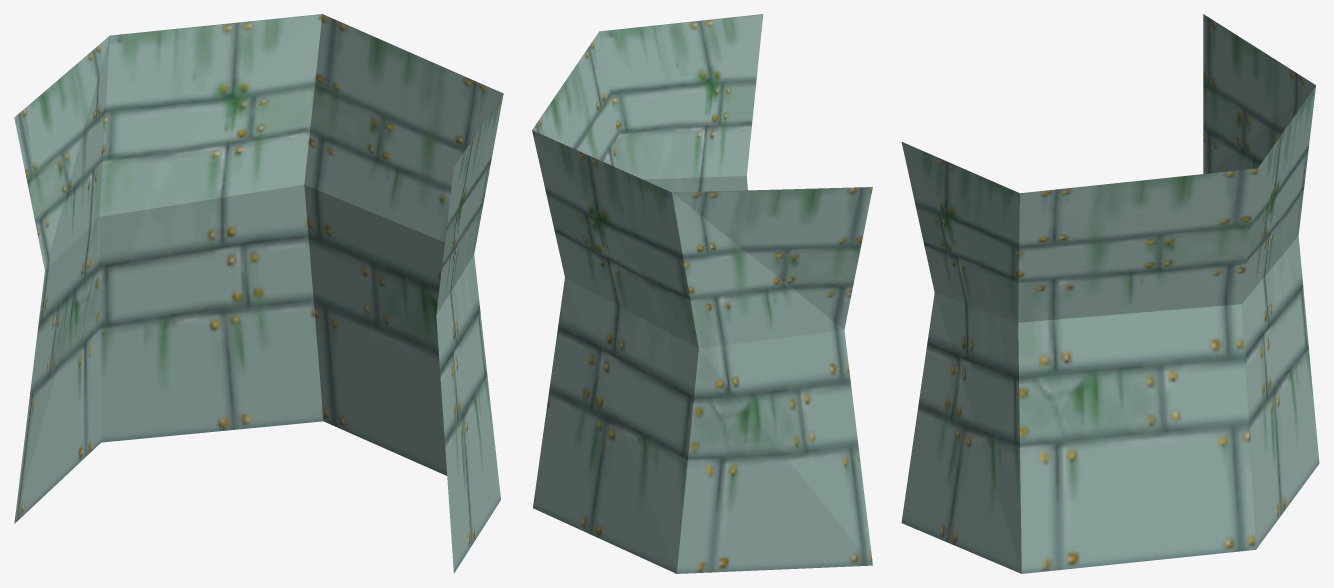
The model's file is W_Erker_Hinterseite_Gedreht_1670.glb.
3 views of the same model, side by side, from view 1: azimuth 30°, elevation 25°; view 2: azimuth 150°, elevation 25°; view 3: azimuth 270°, elevation 25° (orthographic). The views are drawn at different scales.
Visible parts, largest first — view 1: pPlaneShape6; view 2: pPlaneShape6; view 3: pPlaneShape6.
Part boxes in pixels (bbox=[...]): pPlaneShape6: bbox=[14, 14, 503, 573]; pPlaneShape6: bbox=[532, 14, 872, 573]; pPlaneShape6: bbox=[901, 14, 1319, 573].
Size of the model in its own units: 0.3513 by 0.3486 by 0.3462.
Materials: 1 (1 with a texture image).
